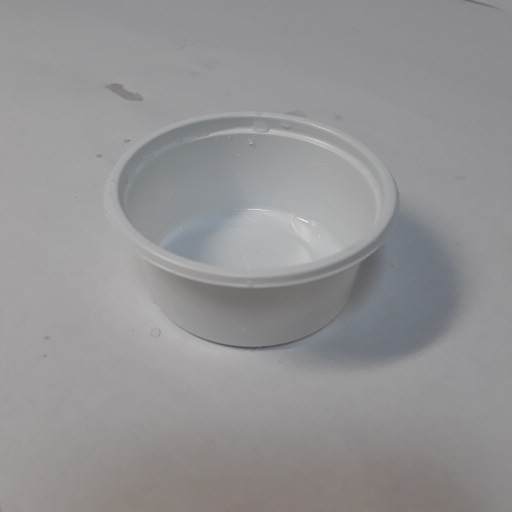Plastic_5: (102, 109, 401, 352)
